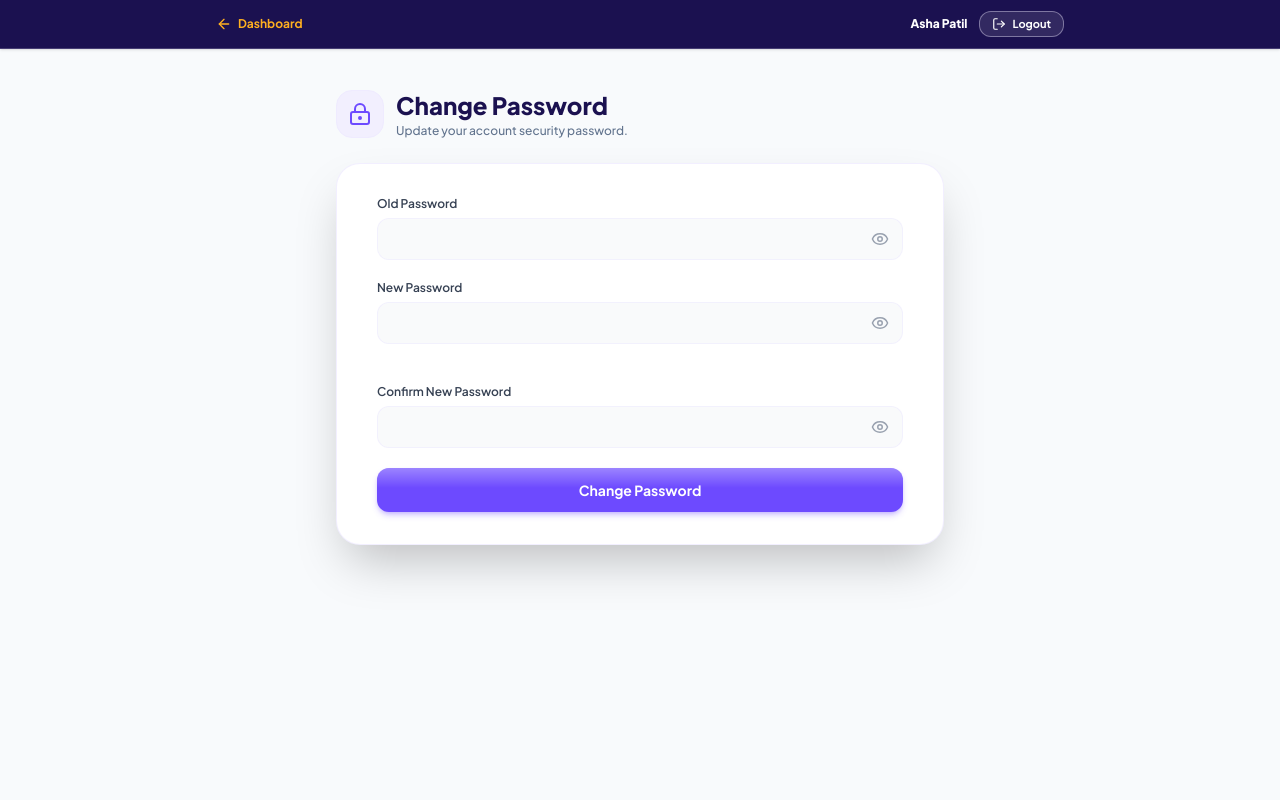
Test case: ChangePassword › shows an error dialog when the API rejects the change
Type "wrong-password" into the password field labelled "Old Password" at (640, 239), box [377,218,903,260]
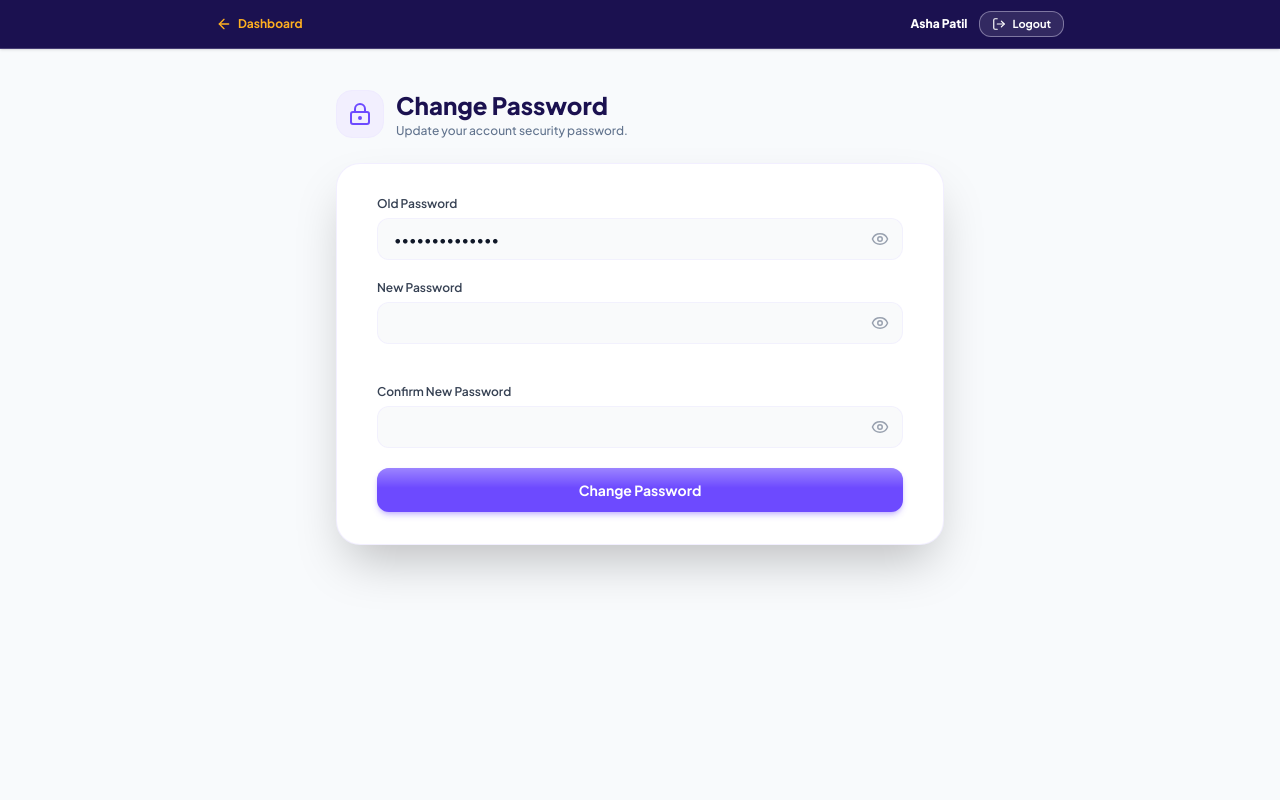
Type "Strong1!" into the password field labelled "New Password" at (640, 323), box [377,302,903,344]
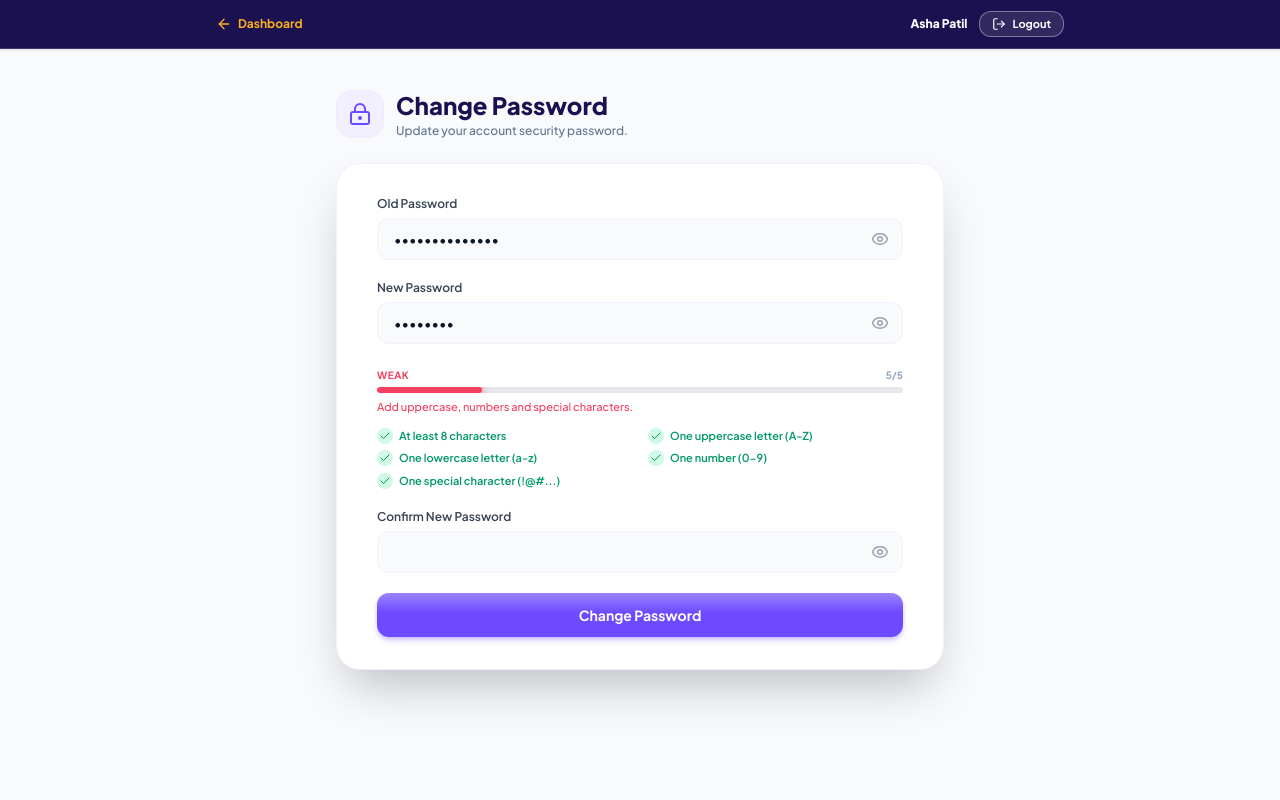
Type "Strong1!" into the password field labelled "Confirm New Password" at (640, 552), box [377,531,903,573]
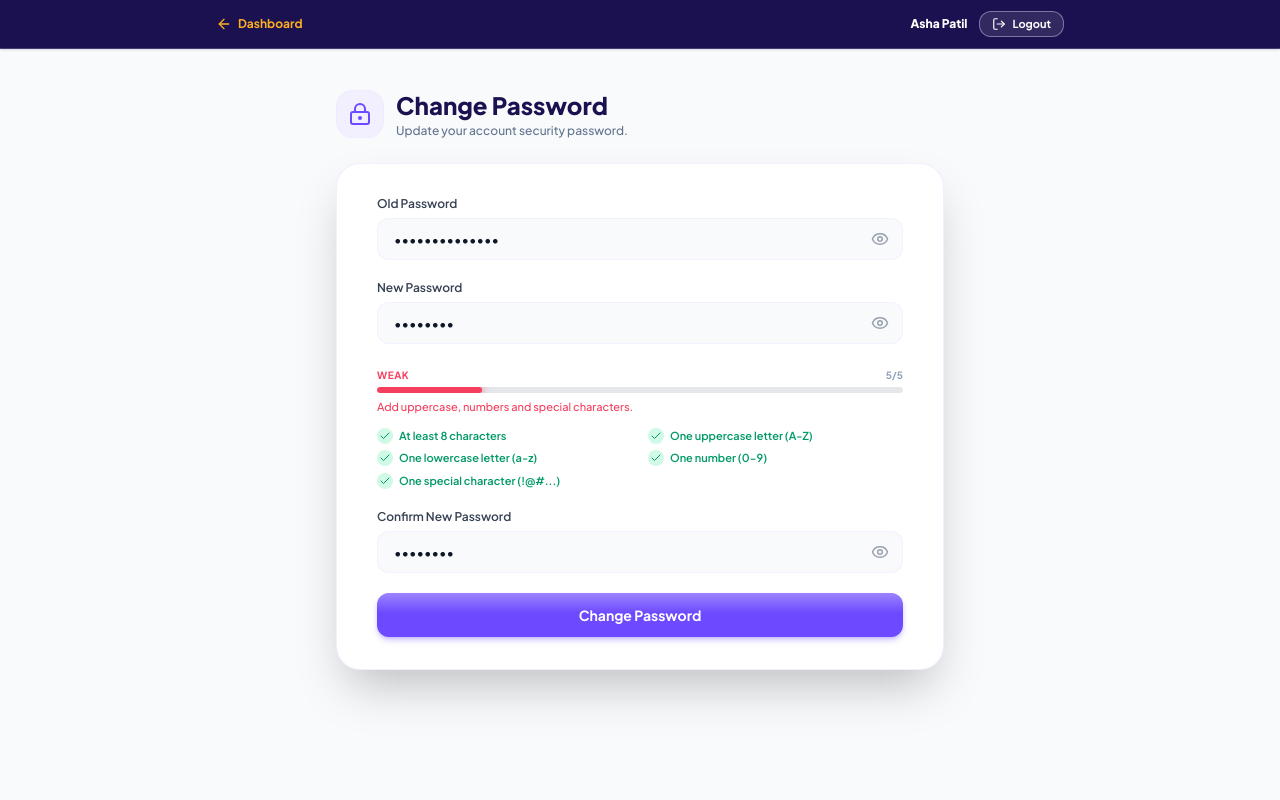
Click the button "Change Password" at (640, 615), box [377,593,903,637]
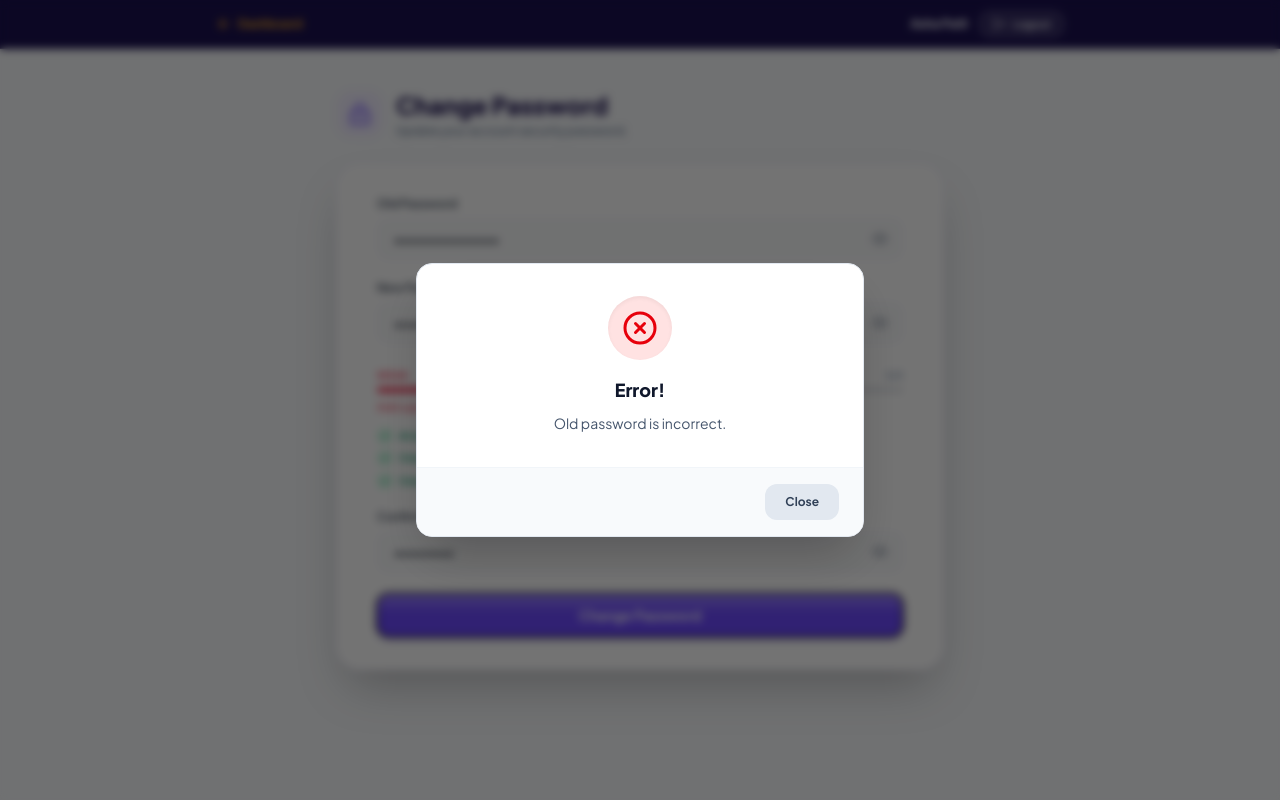
Now the heading "Error!" is shown, box [615,378,665,401]
Now the text "Old password is incorrect." is shown, box [554,414,726,432]
